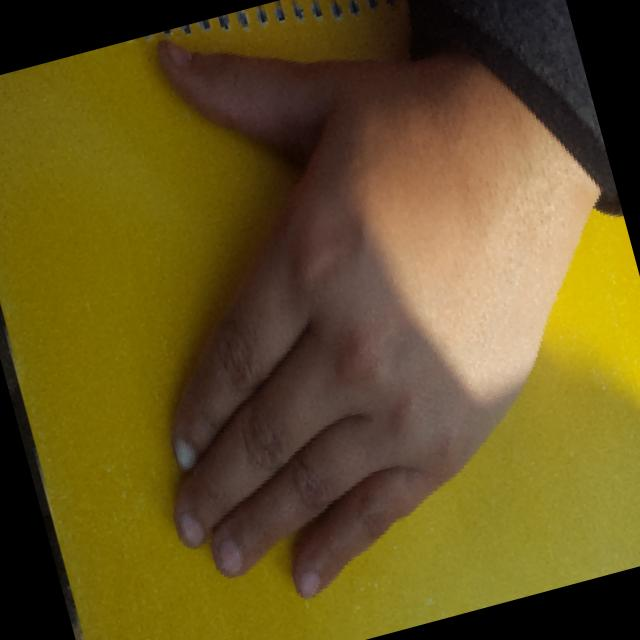Nail: (174, 511, 204, 547), (214, 540, 241, 575), (172, 438, 196, 470), (296, 570, 320, 598), (169, 43, 191, 66)
